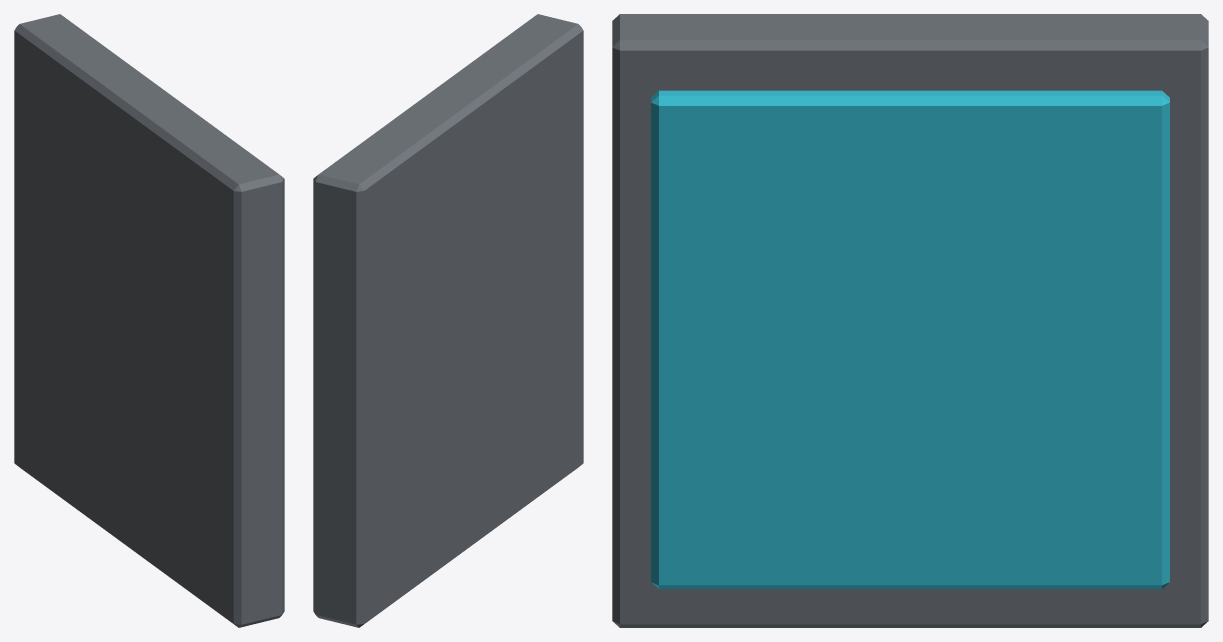
File: powered_door.glb
3 views of the same model, side by side, from view 1: azimuth 30°, elevation 25°; view 2: azimuth 150°, elevation 25°; view 3: azimuth 270°, elevation 25° (orthographic). The views are drawn at different scales.
Parts seen in each view (by area): view 1: powered_door; view 2: powered_door; view 3: powered_door.
Part boxes in pixels (x1,y1,x2,y2): powered_door: (14,14,284,627); powered_door: (313,14,583,627); powered_door: (612,14,1208,627).
Bounding box in the file's own units: 0.075 × 0.5 × 0.46.
